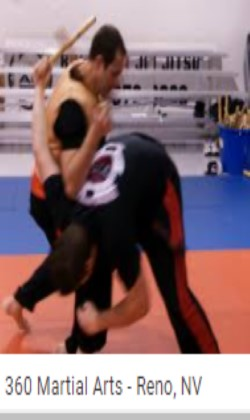baston_e: (45, 16, 90, 74)
baston_v: (31, 64, 47, 80), (88, 8, 101, 27)
